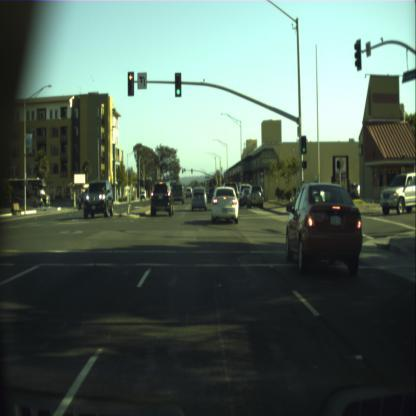Green: (174, 72, 180, 96), (301, 136, 306, 154), (190, 168, 192, 173)
Red: (181, 168, 183, 172)
RedLeft: (127, 70, 134, 96)
